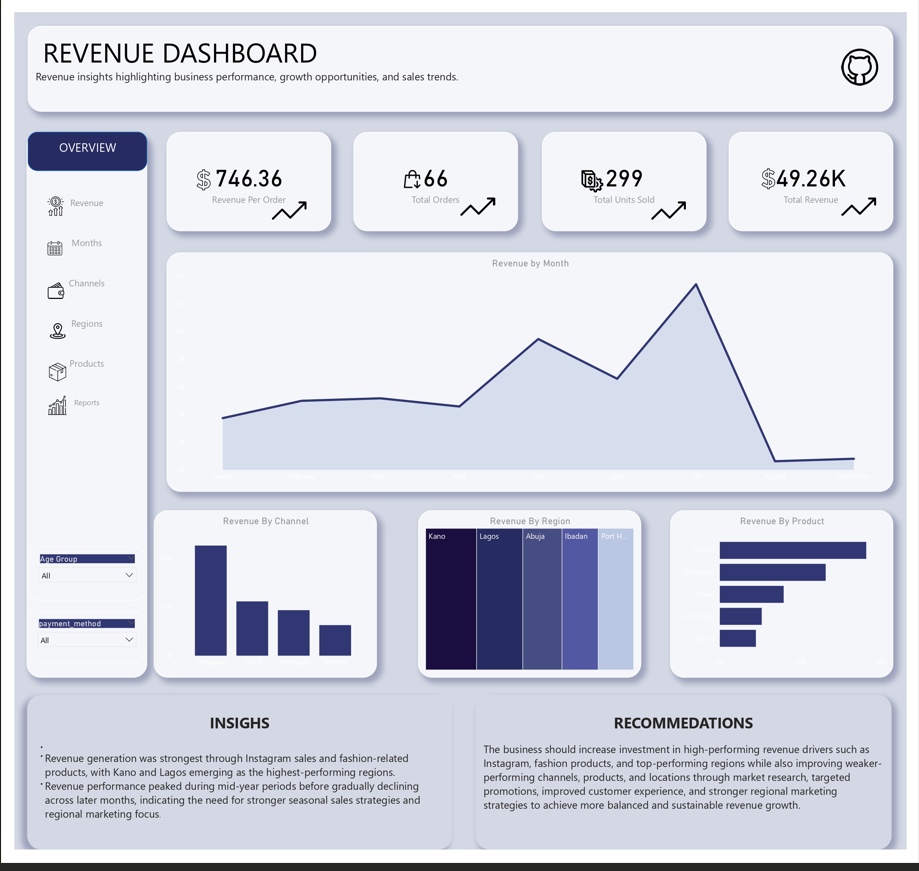

Layout of this report page (visuals, bound fields, positions):
{"tool":"powerbi","page":{"name":"Page 2","canvas":[1600,1500],"ordinal":1},"visuals":[{"type":"textbox","box":[21.6,213.5,216.2,978.4],"z":0},{"type":"card","fields":{"Values":["ecommerce.Total Revenue"]},"box":[1281.1,213.5,294.6,178.4],"z":1000},{"type":"card","fields":{"Values":["ecommerce.Total Units Sold"]},"box":[945.9,213.5,294.6,178.4],"z":2000},{"type":"card","fields":{"Values":["ecommerce.Total Orders"]},"box":[608.1,213.5,294.6,178.4],"z":3000},{"type":"card","fields":{"Values":["ecommerce.Revenue Per Order"]},"box":[273,213.5,294.6,178.4],"z":4000},{"type":"treemap","title":"Revenue By Region","fields":{"Group":["ecommerce.region"],"Values":["Sum(ecommerce.revenue_usd)"]},"box":[724.3,891.9,400,300],"z":5000},{"type":"clusteredColumnChart","title":"Revenue By Channel","fields":{"Category":["ecommerce.channel"],"Y":["Sum(ecommerce.revenue_usd)"]},"box":[250,892.3,400,300],"z":6000},{"type":"clusteredBarChart","title":"Revenue By Product","fields":{"Y":["Sum(ecommerce.revenue_usd)"],"Category":["ecommerce.product_category"]},"box":[1175.7,891.9,400,300],"z":7000},{"type":"textbox","box":[24.3,24.3,1551.4,154.1],"z":8000},{"type":"slicer","fields":{"Values":["ecommerce.payment_method"]},"box":[21.6,1073,216.2,91.9],"z":9000},{"type":"shape","box":[24.3,213.5,213.5,70.3],"z":10000},{"type":"slicer","fields":{"Values":["ecommerce.Age Group"]},"box":[24.3,956.8,213.5,97.3],"z":11000},{"type":"areaChart","title":"Revenue by Month","fields":{"Category":["ecommerce.Month Name"],"Y":["Sum(ecommerce.revenue_usd)"]},"box":[273,429.7,1302.7,429.7],"z":12000},{"type":"textbox","box":[21.6,205.4,218.9,59.5],"z":13000},{"type":"textbox","box":[826.9,1223.1,746.2,276.9],"z":14000},{"type":"textbox","box":[23.1,1223.1,761.5,276.9],"z":15000},{"type":"image","box":[53.7,329.9,40.3,34.3],"z":16000},{"type":"image","box":[61.2,556.7,32.8,28.4],"z":17000},{"type":"image","box":[61.2,610.4,32.8,67.2],"z":18000},{"type":"image","box":[53.7,483.6,40.3,29.9],"z":19000},{"type":"image","box":[60.4,679.2,34,49.1],"z":20000},{"type":"image","box":[53.7,409,37.3,26.9],"z":21000},{"type":"image","box":[1010.8,280,50.8,44.6],"z":22000},{"type":"image","box":[315.4,280,47.7,40],"z":23000},{"type":"image","box":[687.7,280,52.3,38.5],"z":24000},{"type":"image","box":[1326.5,277.6,49,40.8],"z":25000},{"type":"image","box":[313.8,324.1,358.6,62.1],"z":26000},{"type":"image","box":[651.7,317.2,358.6,62.1],"z":27000},{"type":"image","box":[993.1,324.1,358.6,62.1],"z":28000},{"type":"image","box":[1427.6,317.2,172.4,62.1],"z":29000},{"type":"image","box":[1457.7,65.4,115.4,65.4],"z":29001}]}

Visuals, with their boxes in screenshot pixels (x1, y1, x2, y2), scaled from the page's 1600x1500 canvas onto the 919x871 screenshot:
textbox: (12,124,137,692)
card - ecommerce.Total Revenue: (736,124,905,228)
card - ecommerce.Total Units Sold: (543,124,713,228)
card - ecommerce.Total Orders: (349,124,518,228)
card - ecommerce.Revenue Per Order: (157,124,326,228)
"Revenue By Region" treemap: (416,518,646,692)
"Revenue By Channel" clusteredColumnChart: (144,518,373,692)
"Revenue By Product" clusteredBarChart: (675,518,905,692)
textbox: (14,14,905,104)
slicer - ecommerce.payment_method: (12,623,137,676)
shape: (14,124,137,165)
slicer - ecommerce.Age Group: (14,556,137,612)
"Revenue by Month" areaChart: (157,250,905,499)
textbox: (12,119,138,154)
textbox: (475,710,904,870)
textbox: (13,710,451,870)
image: (31,192,54,211)
image: (35,323,54,340)
image: (35,354,54,393)
image: (31,281,54,298)
image: (35,394,54,423)
image: (31,237,52,253)
image: (581,163,610,188)
image: (181,163,209,186)
image: (395,163,425,185)
image: (762,161,790,185)
image: (180,188,386,224)
image: (374,184,580,220)
image: (570,188,776,224)
image: (820,184,918,220)
image: (837,38,904,76)
